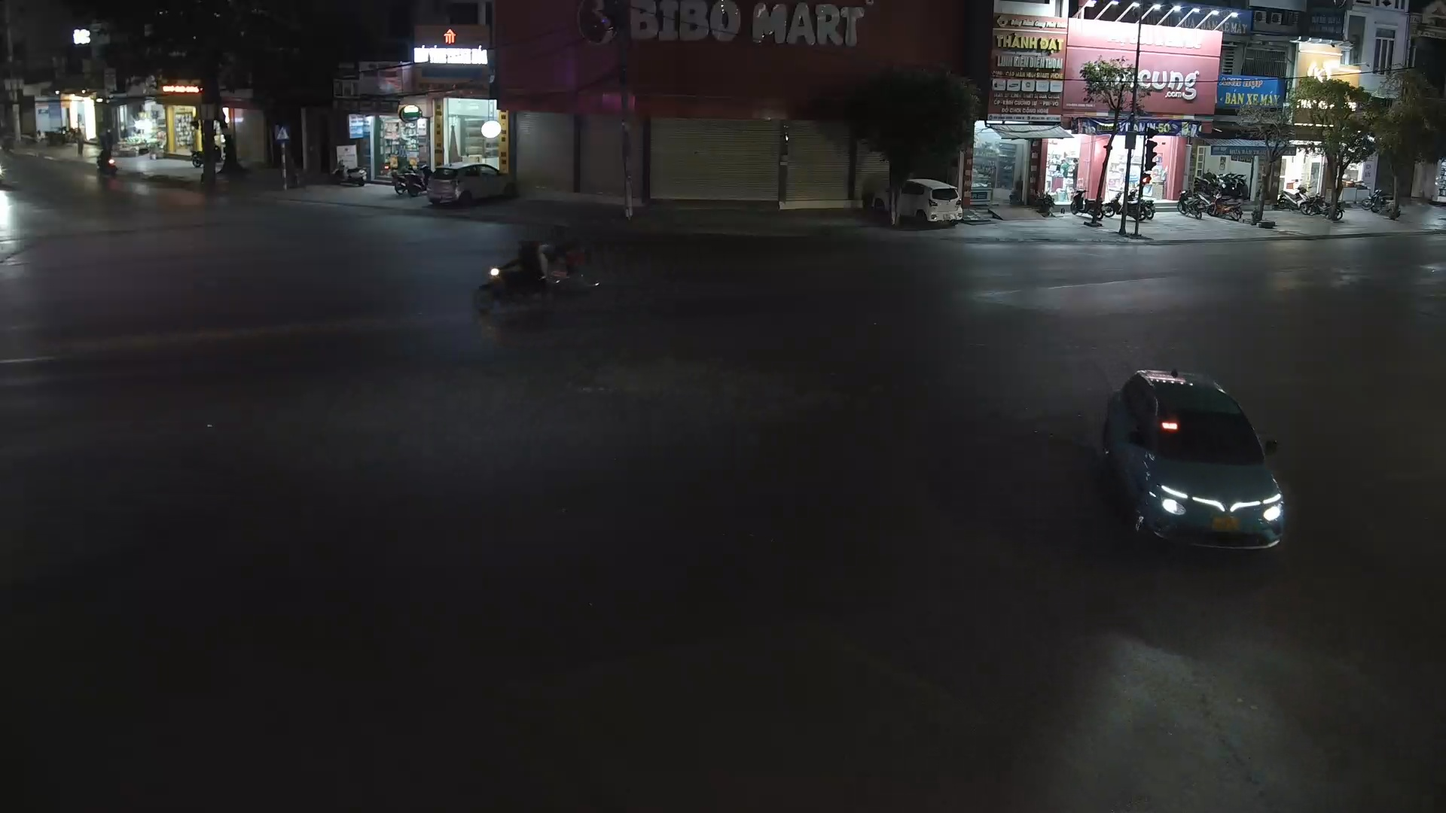car: (1098, 368, 1293, 554)
motorbike: (469, 233, 557, 317)
